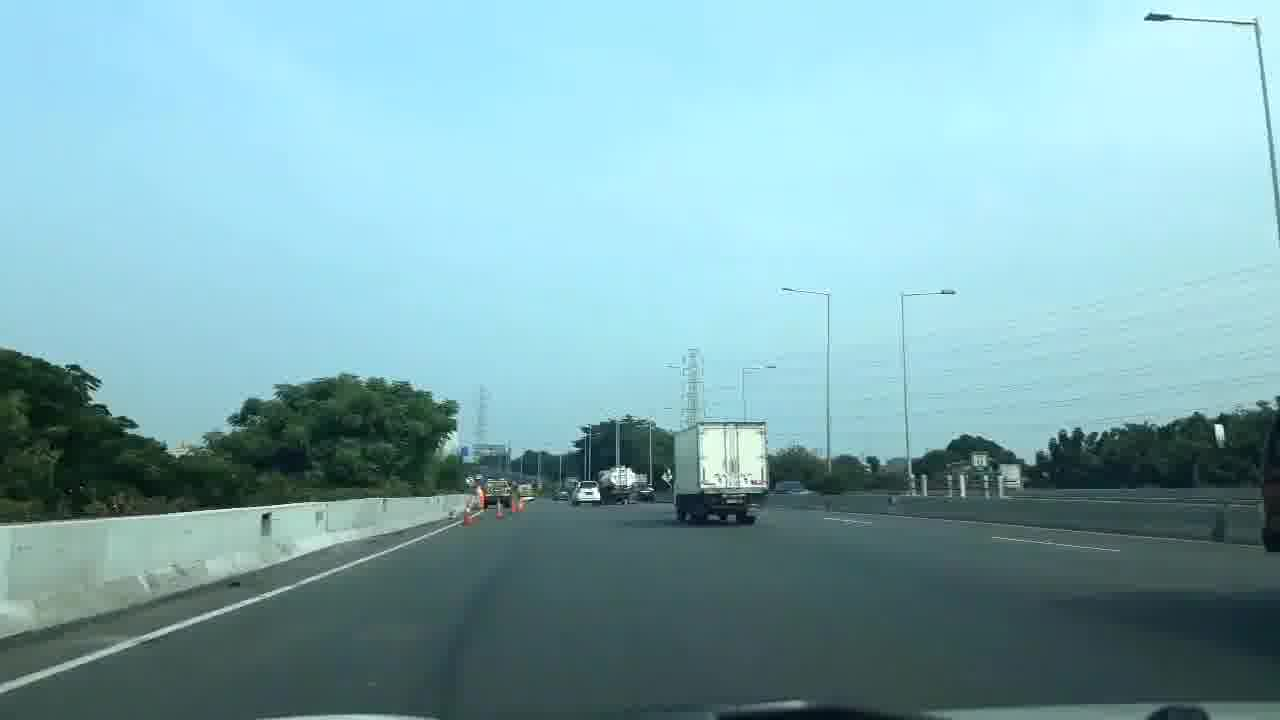plate_positive: (725, 498, 744, 504)
